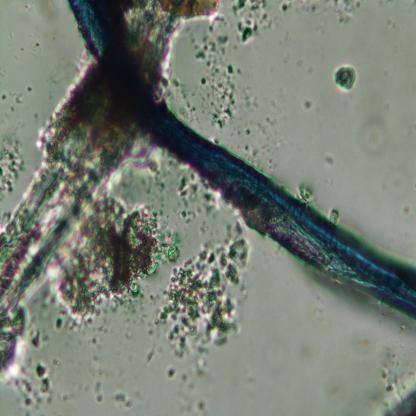Background material: (65, 202, 179, 323), (160, 230, 253, 352), (191, 15, 237, 130), (242, 80, 297, 174), (351, 320, 406, 380), (167, 164, 216, 227), (82, 374, 136, 412), (13, 360, 55, 407), (162, 66, 196, 119), (380, 369, 416, 415), (231, 1, 270, 43), (0, 134, 25, 194), (142, 148, 170, 201), (26, 316, 68, 345), (163, 352, 203, 382), (360, 123, 390, 161), (330, 62, 358, 91), (0, 88, 25, 119), (390, 197, 416, 224), (278, 1, 315, 16), (94, 337, 108, 368), (324, 202, 344, 223), (296, 184, 313, 203), (320, 150, 334, 166), (25, 84, 33, 94), (309, 100, 312, 112)
Cellulose filter fibre: (0, 6, 176, 326)
Cotton: (69, 1, 416, 321)
